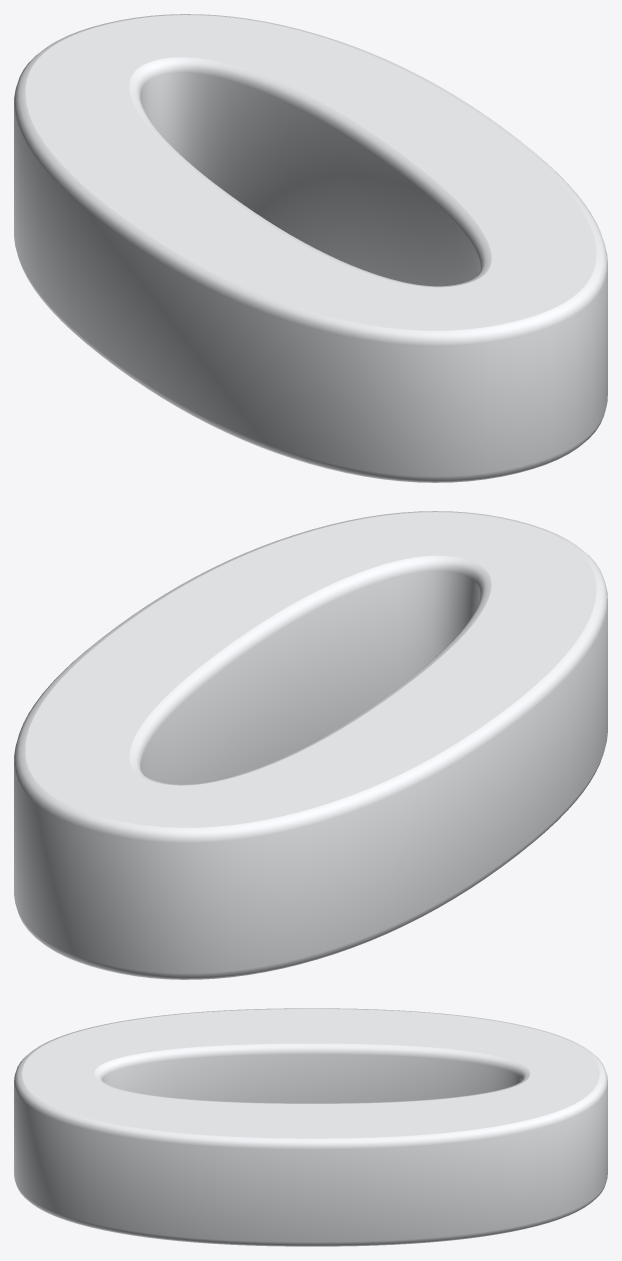
File: goal_clear_letter_01.obj
The picture shows the model from 3 angles, top to bottom: view 1: azimuth 30°, elevation 25°; view 2: azimuth 150°, elevation 25°; view 3: azimuth 270°, elevation 25°; orthographic projection. The views are drawn at different scales.
Visible parts, largest first — view 1: goal_clear_letter_01; view 2: goal_clear_letter_01; view 3: goal_clear_letter_01.
Boxes of the visible parts, x1,y1,x2,y2 form: goal_clear_letter_01: (14,14,607,482); goal_clear_letter_01: (14,511,607,979); goal_clear_letter_01: (14,1008,607,1246).
Bounding box in the file's own units: 0.7177 × 0.2633 × 1.32.
Materials: 1 (1 with a texture image).
